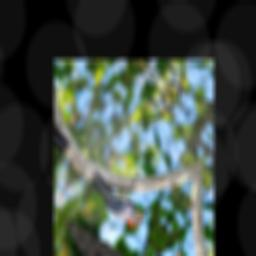Woodpecker: (84, 149, 154, 238)
